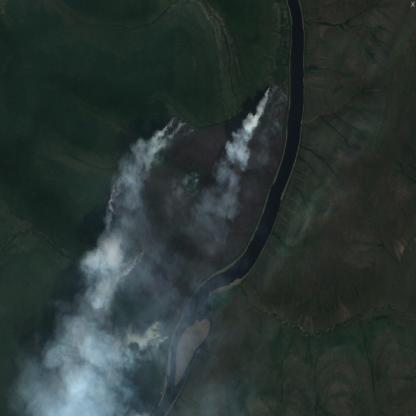fire: (100, 72, 290, 353)
